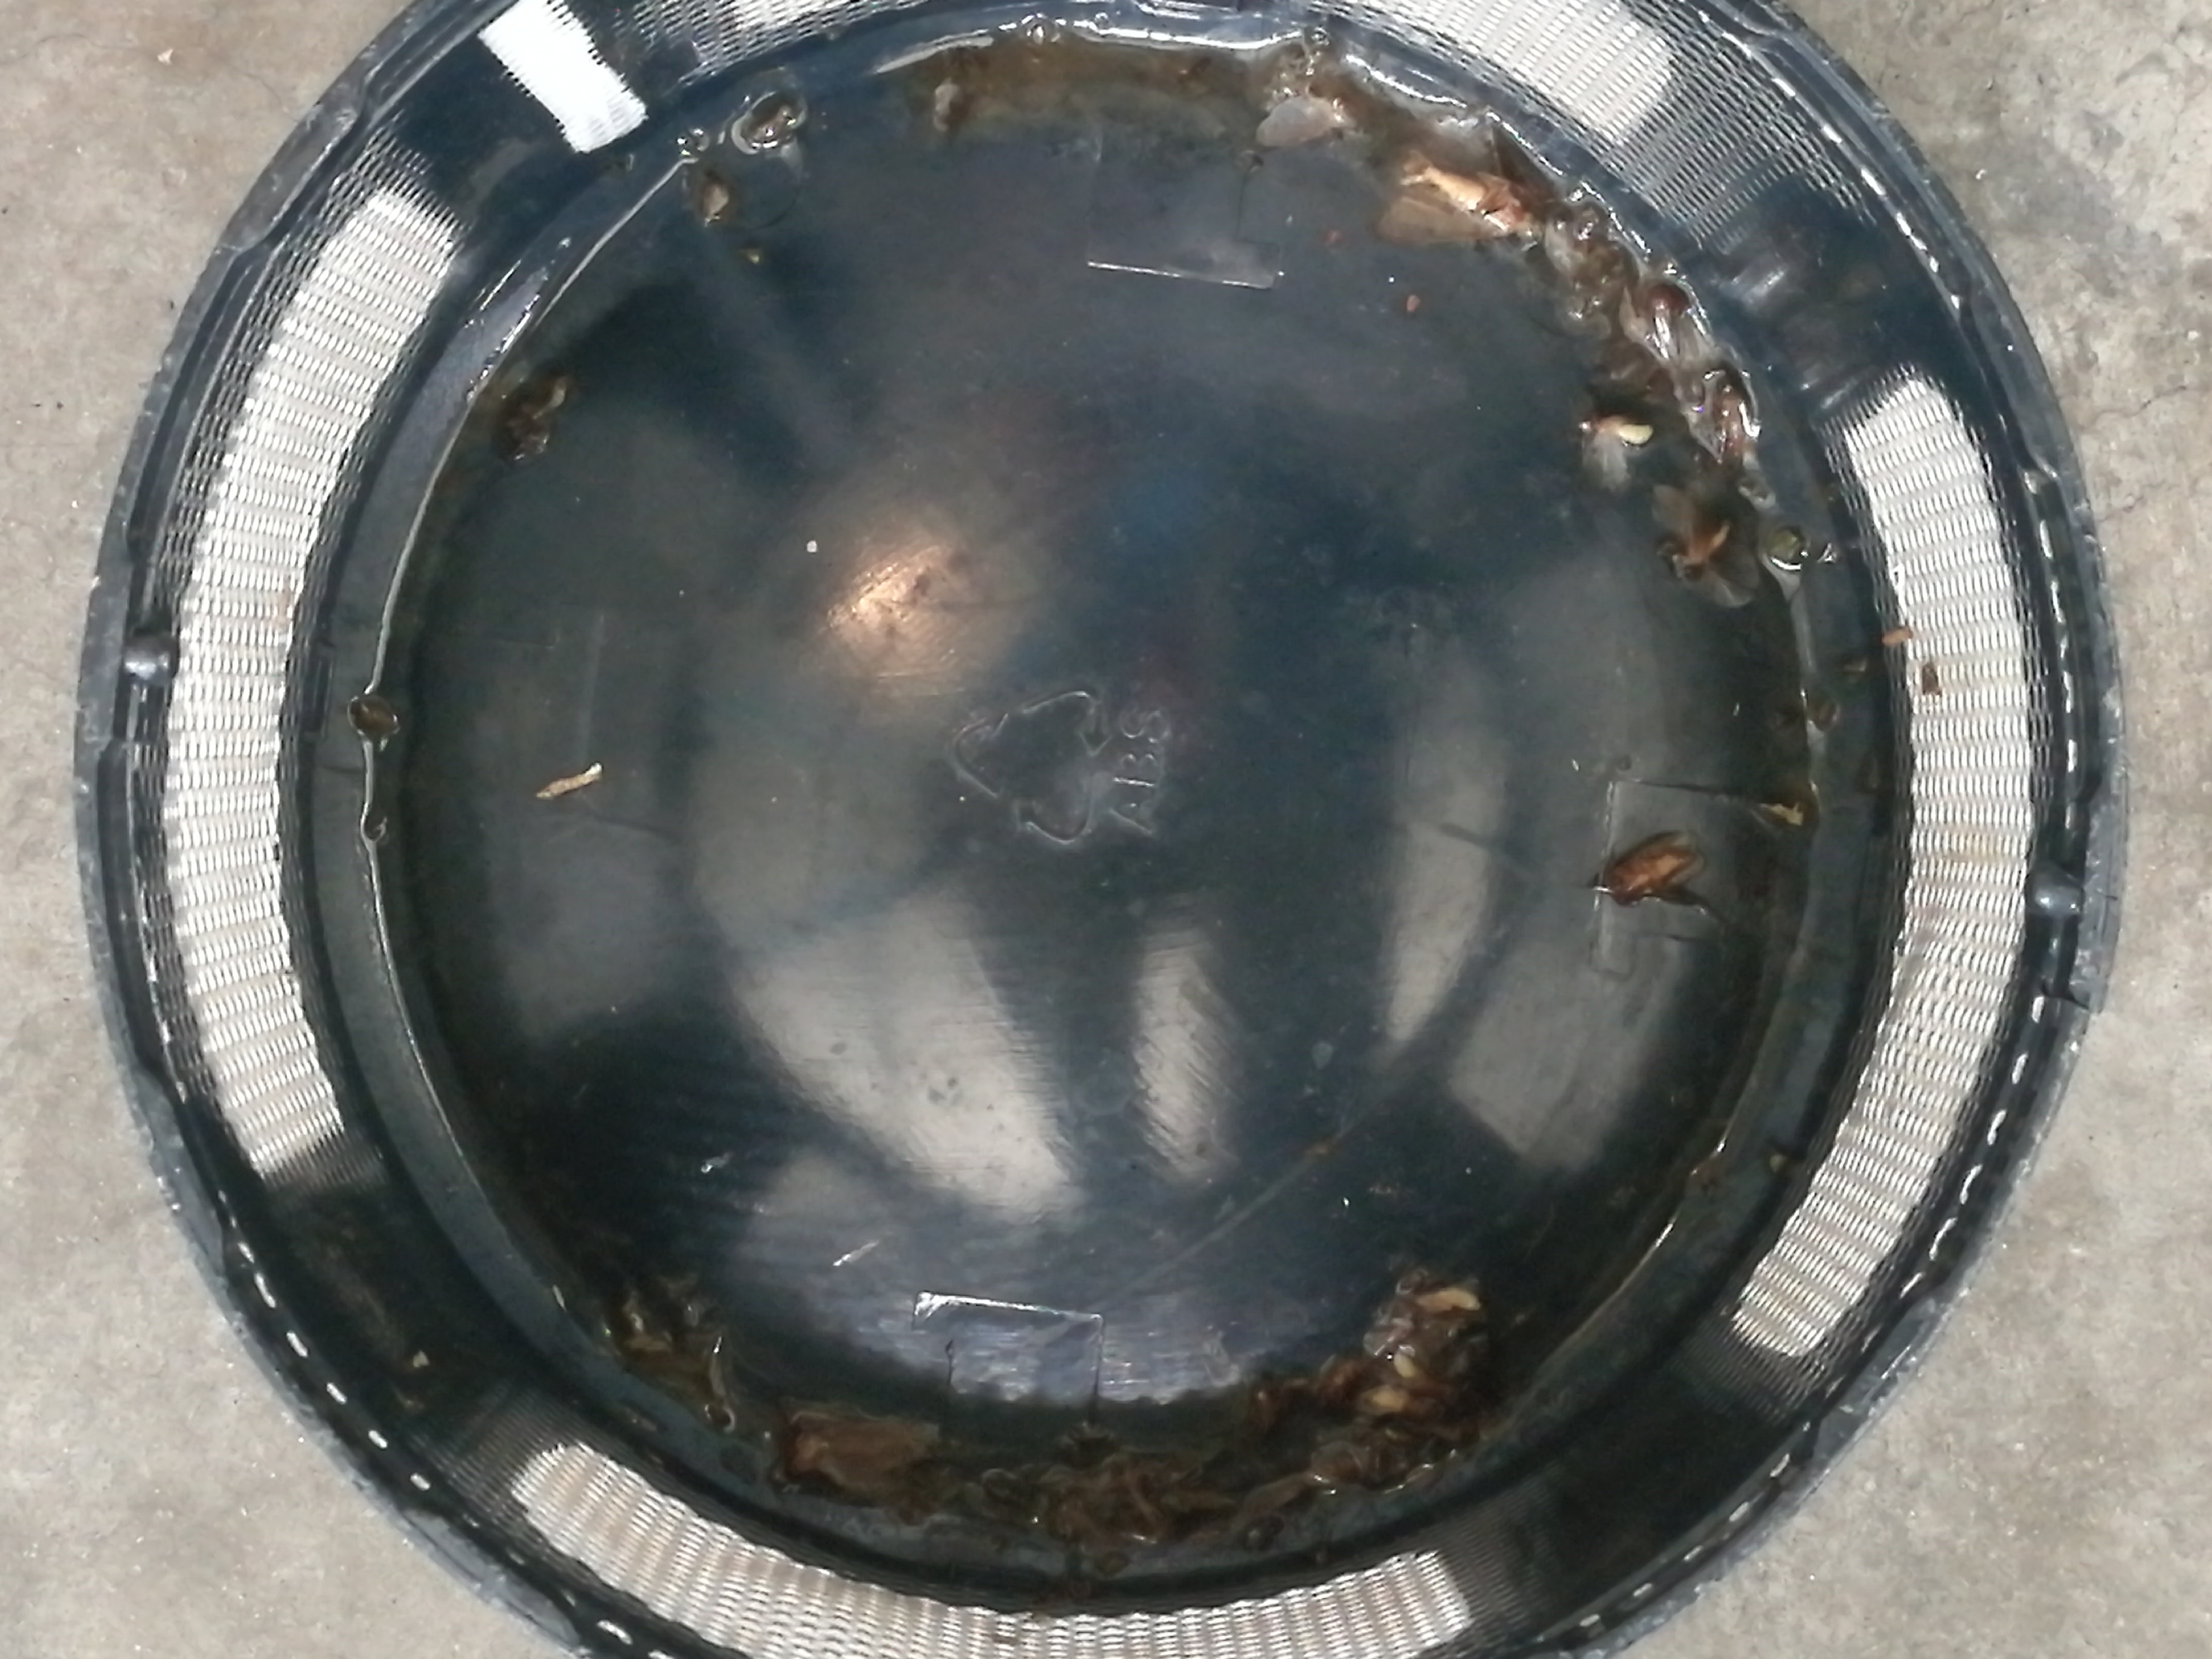moth: (1379, 153, 1529, 240), (791, 1419, 941, 1490), (1609, 831, 1705, 901)
